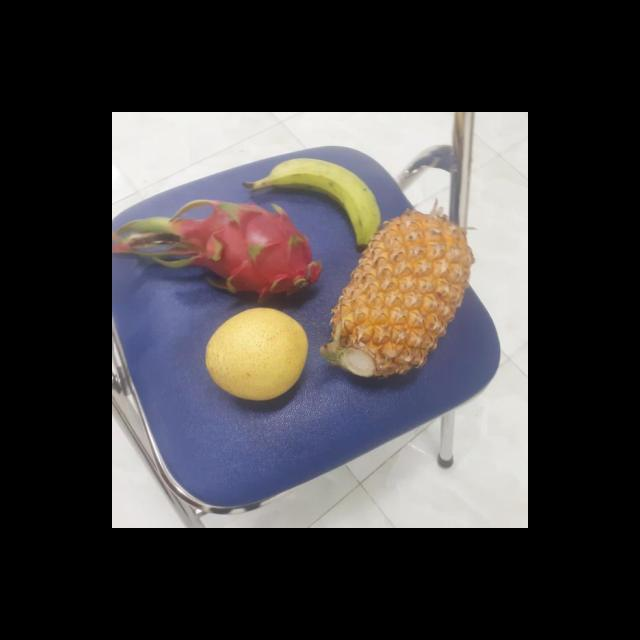banana: (263, 159, 383, 250)
pear: (202, 308, 312, 402)
pineapple: (326, 215, 476, 378)
pitaya: (177, 202, 326, 306)
